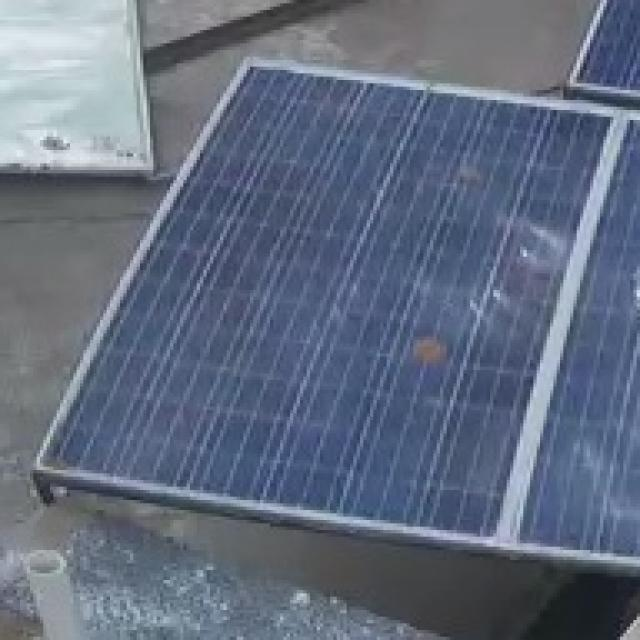Bird-drop: (461, 213, 559, 324)
Dusty: (399, 333, 443, 373)
